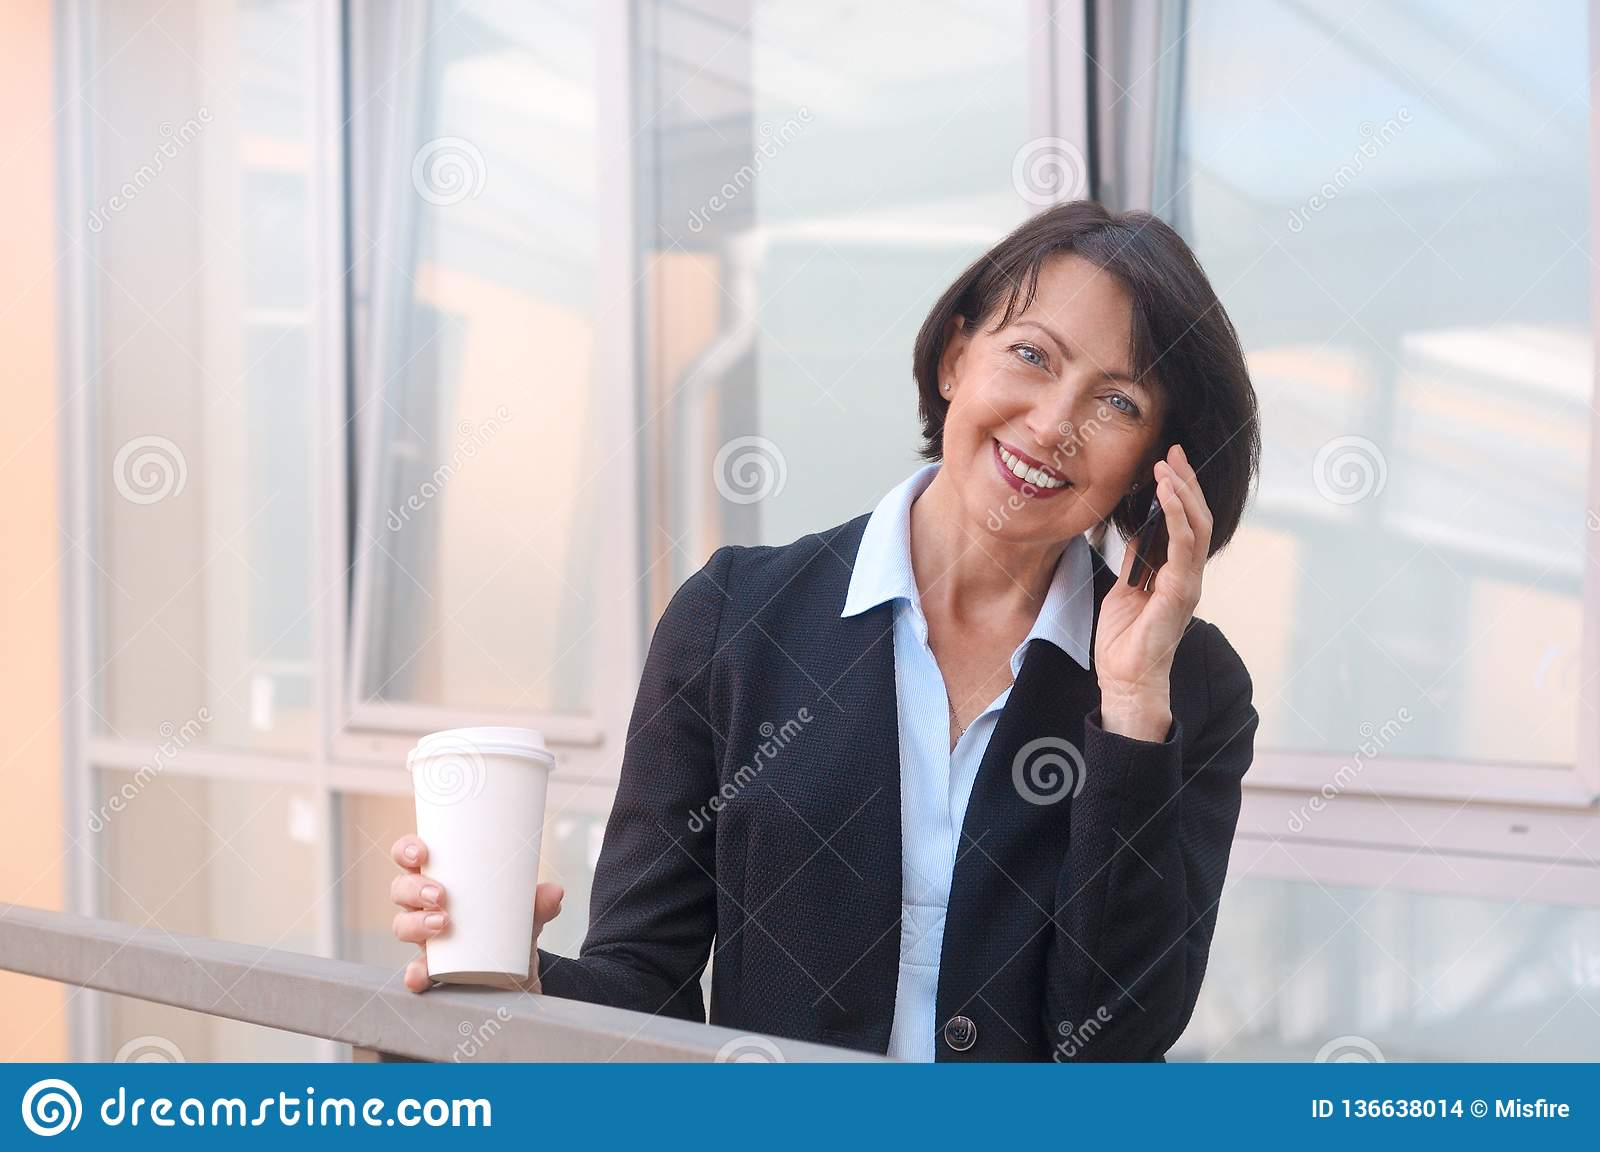phone: (1127, 420, 1186, 597)
talk: (938, 314, 1212, 717)
